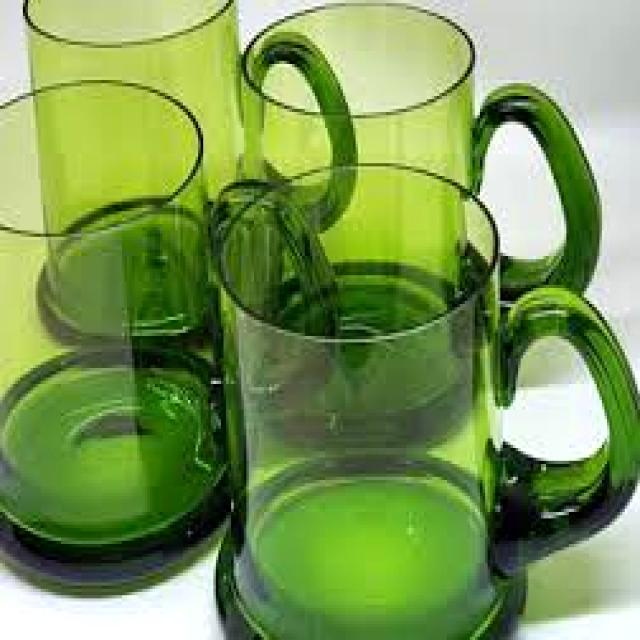Glass: (215, 155, 640, 640), (0, 77, 225, 601), (20, 0, 248, 347), (240, 0, 478, 161)
